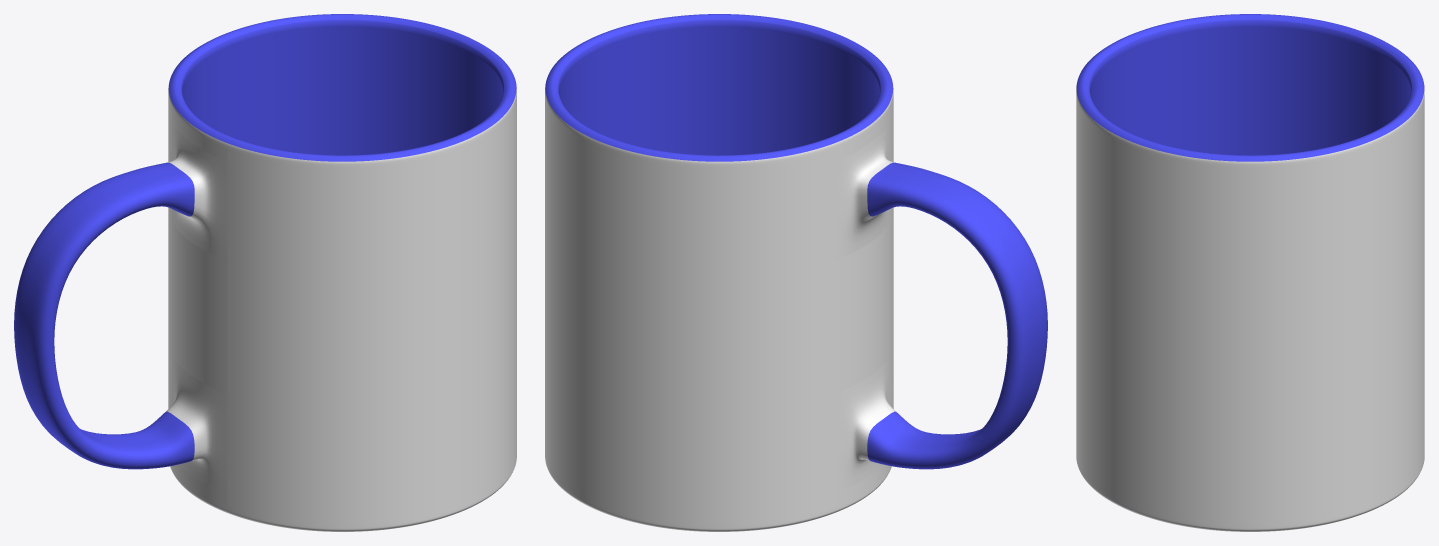
Rendered from model_towtone.glb.
The picture shows the model from 3 angles, left to right: view 1: azimuth 30°, elevation 25°; view 2: azimuth 150°, elevation 25°; view 3: azimuth 270°, elevation 25°; orthographic projection.
Visible parts, largest first — view 1: PrintArea, Color, Mug; view 2: PrintArea, Color, Mug; view 3: PrintArea, Color, Mug.
Boxes of the visible parts, <box> form: PrintArea: <box>168,97,516,523</box>; Color: <box>14,14,516,469</box>; Mug: <box>166,81,516,531</box>; PrintArea: <box>545,97,893,523</box>; Color: <box>545,14,1047,469</box>; Mug: <box>545,81,895,531</box>; PrintArea: <box>1076,98,1424,523</box>; Color: <box>1076,14,1424,161</box>; Mug: <box>1076,82,1424,531</box>.
Bounding box in the file's own units: 0.3219 × 0.2459 × 0.2072.
